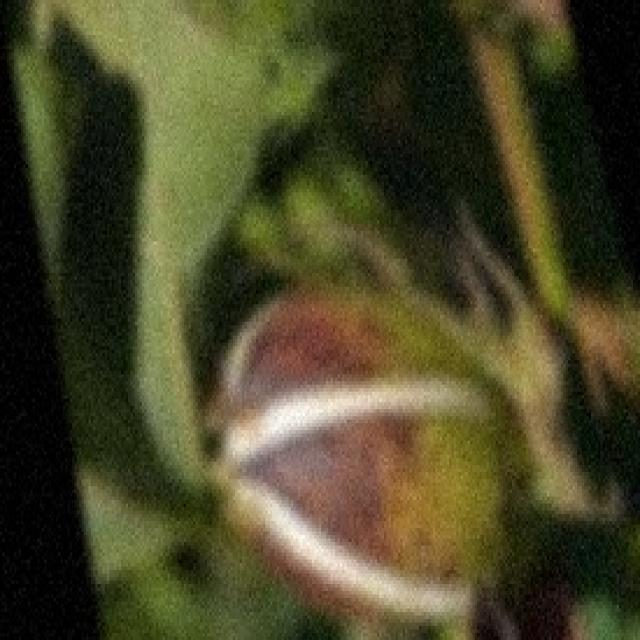Split Cotton Boll: (208, 284, 507, 622)
